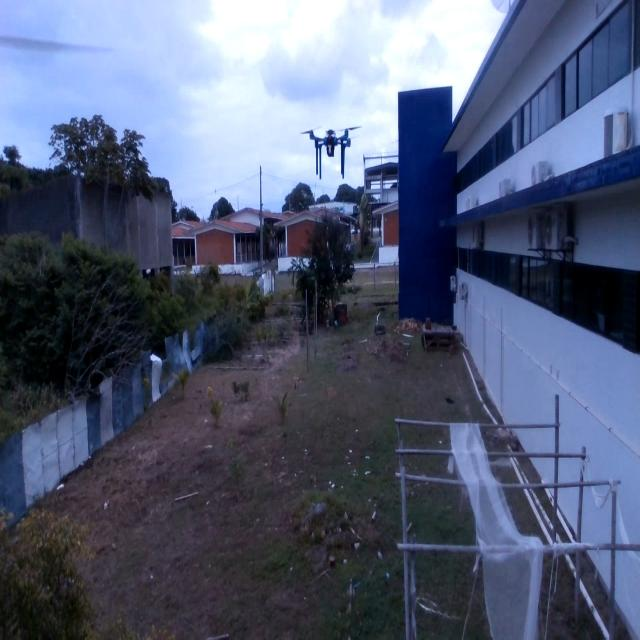-uav-: (297, 117, 368, 190)
